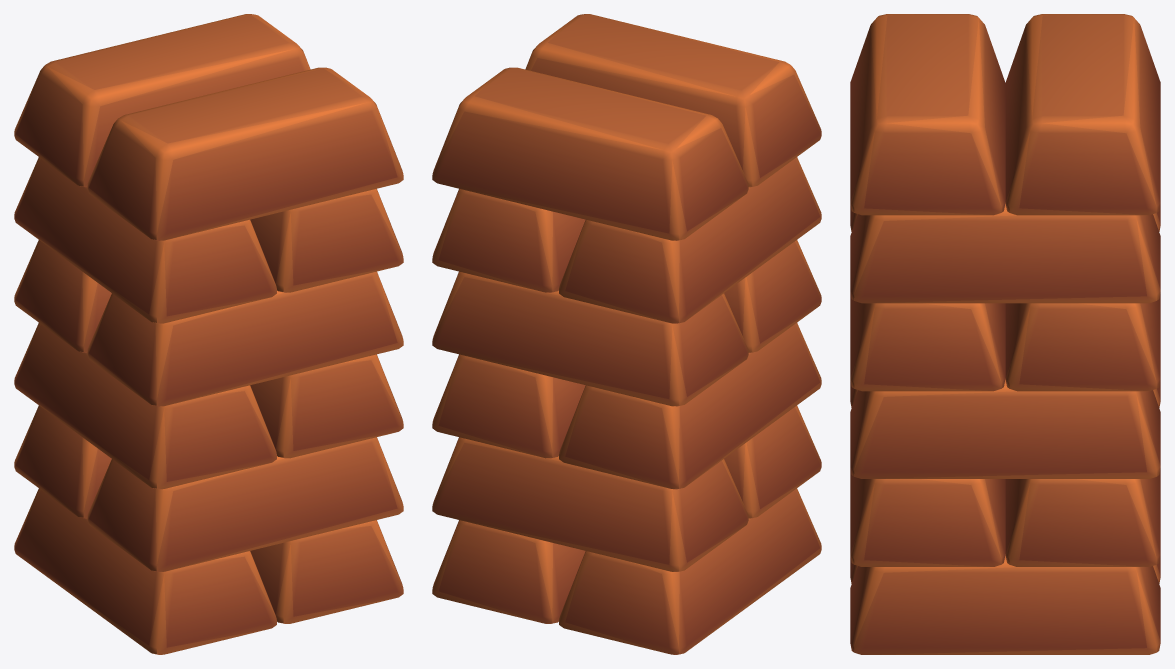
File: copper_bars_stack_medium.glb
The picture shows the model from 3 angles, left to right: view 1: azimuth 30°, elevation 25°; view 2: azimuth 150°, elevation 25°; view 3: azimuth 270°, elevation 25°; orthographic projection. The views are drawn at different scales.
Parts seen in each view (by area): view 1: Copper_Bars_Stack_Medium; view 2: Copper_Bars_Stack_Medium; view 3: Copper_Bars_Stack_Medium.
Part boxes in pixels (bbox=[...]): Copper_Bars_Stack_Medium: bbox=[14, 14, 403, 654]; Copper_Bars_Stack_Medium: bbox=[432, 14, 821, 654]; Copper_Bars_Stack_Medium: bbox=[850, 14, 1160, 654].
Size of the model in its own units: 0.4801 by 0.9 by 0.4801.
1 material, 1 textured.
